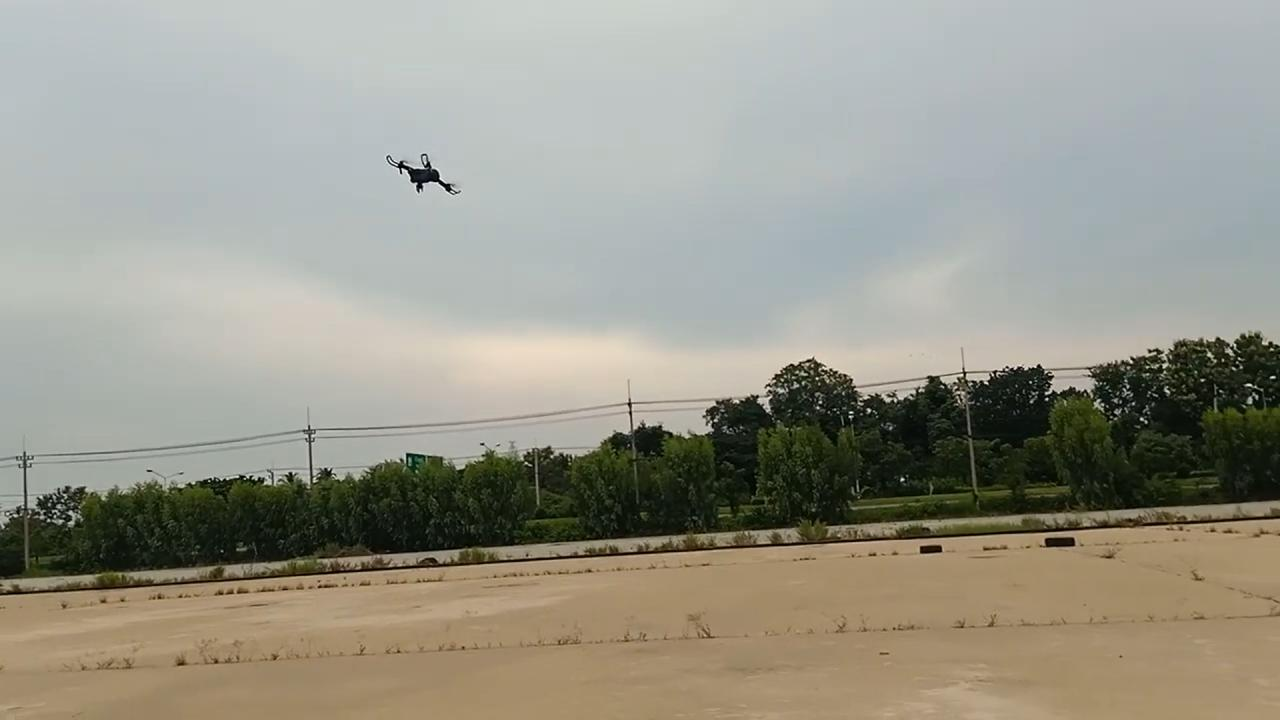Drone: (376, 140, 472, 206)
